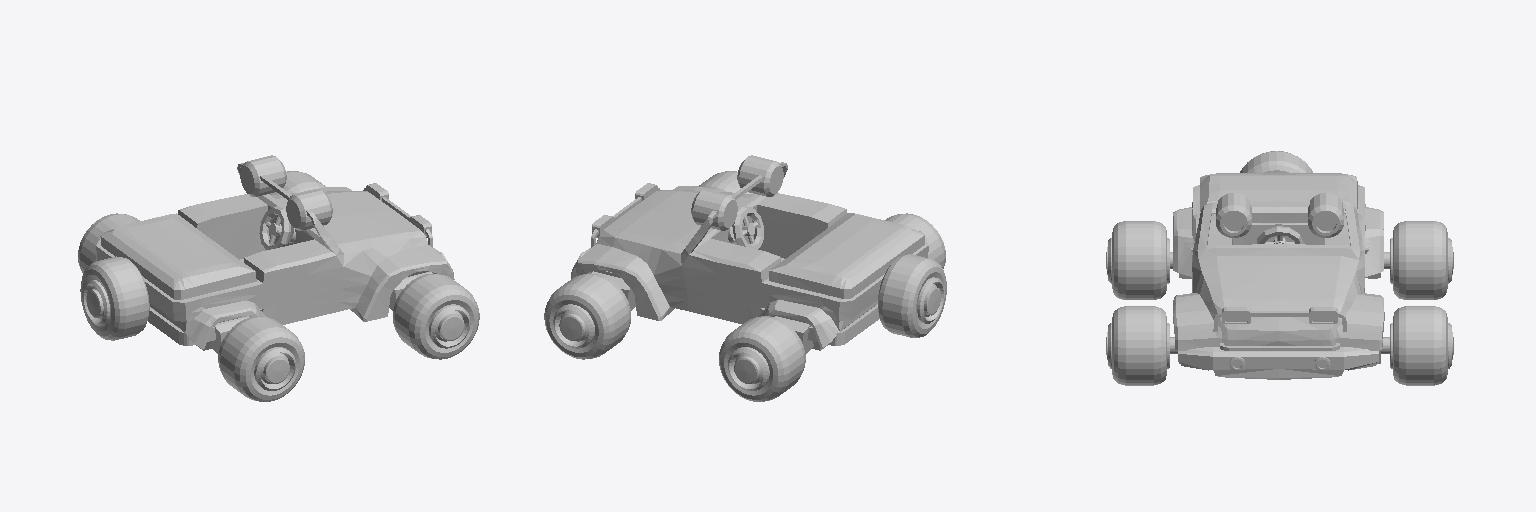
The model's file is kart_baxter.obj.
3 renders of one model, left to right at view 1: azimuth 30°, elevation 25°; view 2: azimuth 150°, elevation 25°; view 3: azimuth 270°, elevation 25°, orthographic.
Visible parts, largest first — view 1: polySurface1_Mesh.001, wheel_Wheel_low.000, decowheel_Wheel_low.004, spotlight1_Cylinder.005, steeringwheel_Torus.001, downarmature_Cube.007, back_Cube.005; view 2: polySurface1_Mesh.001, wheel_Wheel_low.000, decowheel_Wheel_low.004, spotlight1_Cylinder.005, steeringwheel_Torus.001, downarmature_Cube.007, back_Cube.005; view 3: polySurface1_Mesh.001, wheel_Wheel_low.000, front_Cube, spotlight1_Cylinder.005, decowheel_Wheel_low.004, lightcar_Cube.003, armature2_Cube.001, steeringwheel_Torus.001, armature1_Cube.002.
Boxes of the visible parts, x1=… form: polySurface1_Mesh.001: x1=96, y1=163, x2=454, y2=348; wheel_Wheel_low.000: x1=78, y1=171, x2=479, y2=401; decowheel_Wheel_low.004: x1=80, y1=256, x2=149, y2=340; spotlight1_Cylinder.005: x1=240, y1=155, x2=332, y2=230; steeringwheel_Torus.001: x1=259, y1=206, x2=290, y2=249; downarmature_Cube.007: x1=196, y1=271, x2=432, y2=354; back_Cube.005: x1=148, y1=307, x2=215, y2=345; polySurface1_Mesh.001: x1=571, y1=162, x2=928, y2=347; wheel_Wheel_low.000: x1=544, y1=171, x2=945, y2=401; decowheel_Wheel_low.004: x1=878, y1=254, x2=946, y2=337; spotlight1_Cylinder.005: x1=691, y1=155, x2=783, y2=230; steeringwheel_Torus.001: x1=732, y1=206, x2=763, y2=249; downarmature_Cube.007: x1=591, y1=270, x2=827, y2=354; back_Cube.005: x1=807, y1=304, x2=879, y2=345; polySurface1_Mesh.001: x1=1173, y1=173, x2=1384, y2=350; wheel_Wheel_low.000: x1=1106, y1=221, x2=1453, y2=385; front_Cube: x1=1178, y1=347, x2=1378, y2=379; spotlight1_Cylinder.005: x1=1216, y1=193, x2=1343, y2=237; decowheel_Wheel_low.004: x1=1240, y1=151, x2=1312, y2=172; lightcar_Cube.003: x1=1222, y1=307, x2=1337, y2=323; armature2_Cube.001: x1=1220, y1=343, x2=1339, y2=350; steeringwheel_Torus.001: x1=1257, y1=226, x2=1303, y2=243; armature1_Cube.002: x1=1213, y1=311, x2=1346, y2=331.
Size of the model in its own units: 2.35 by 0.9804 by 2.14.